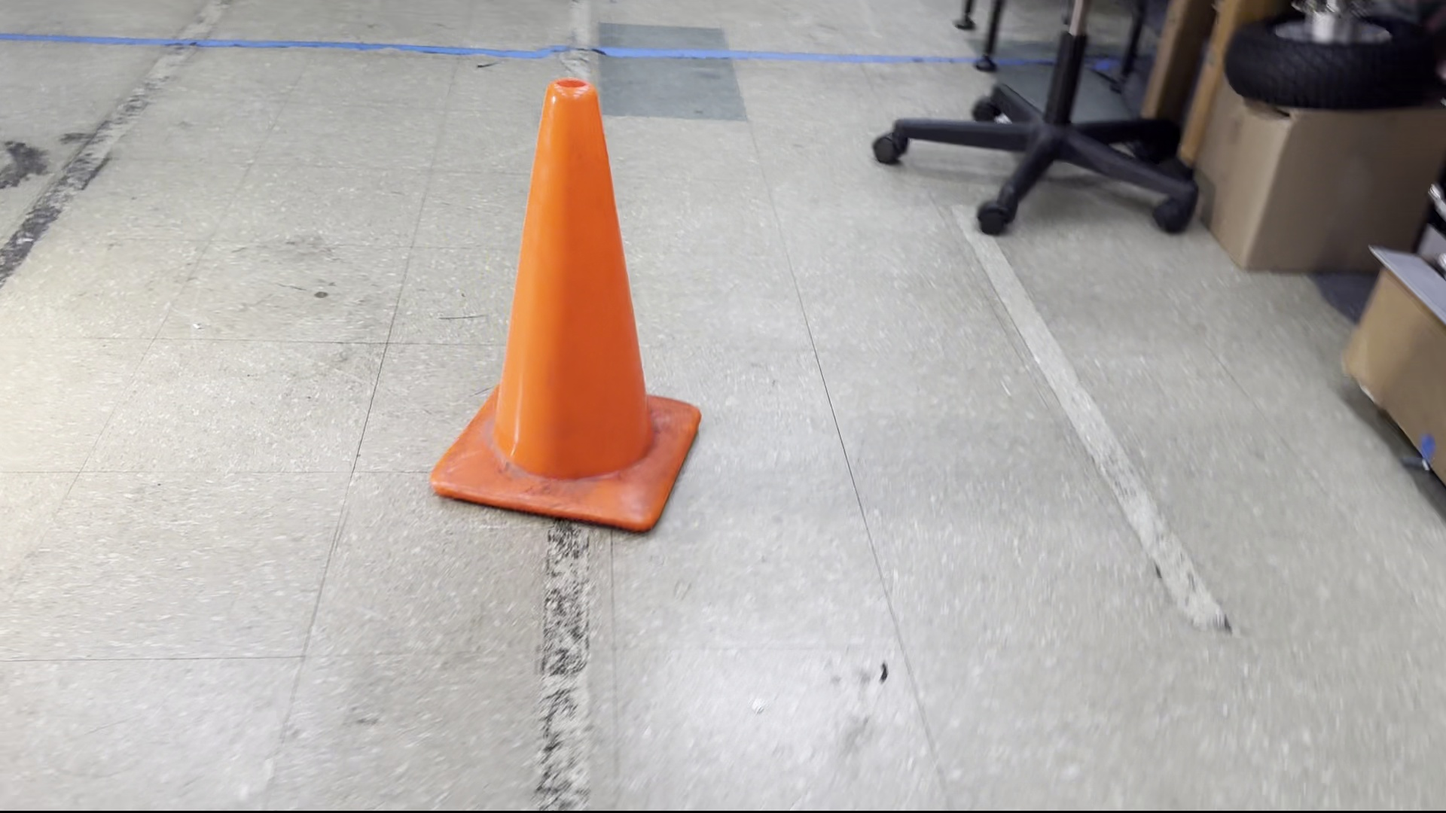traffic_cone: (429, 76, 702, 533)
